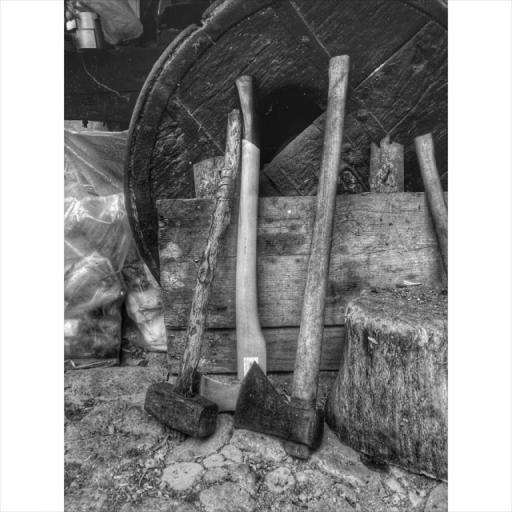Axe: (232, 49, 346, 460), (200, 76, 264, 414)
